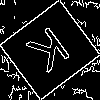K: (24, 25, 78, 82)
